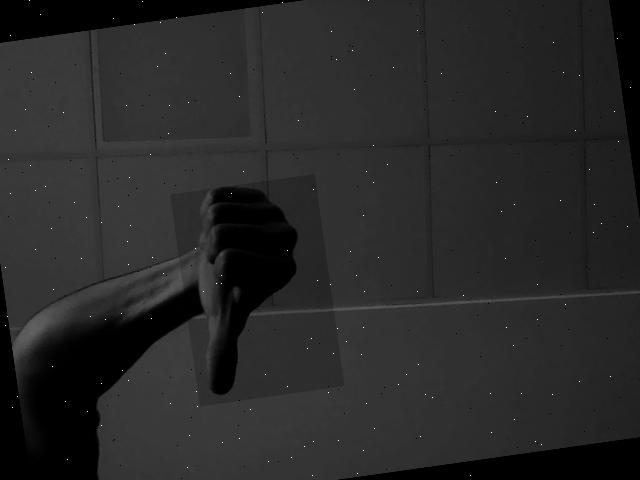bad: (170, 174, 344, 406)
